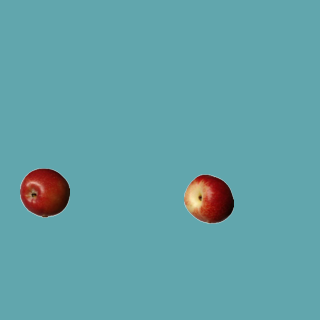Apple Braeburn: (19, 167, 69, 217)
Nectarine: (183, 173, 233, 223)
